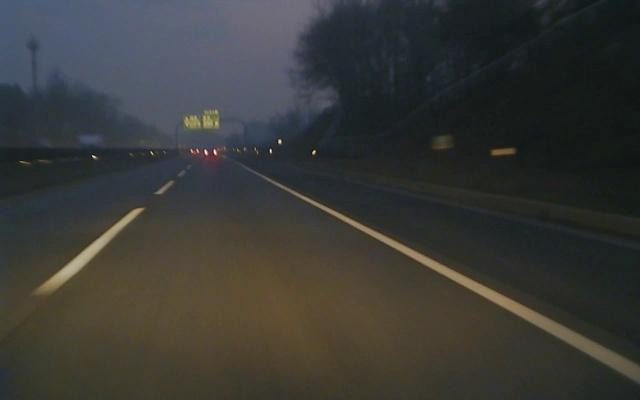lane: (242, 166, 639, 384), (32, 169, 189, 294)
